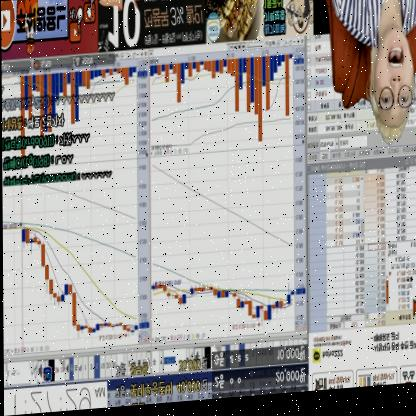streamer: (320, 0, 416, 154)
